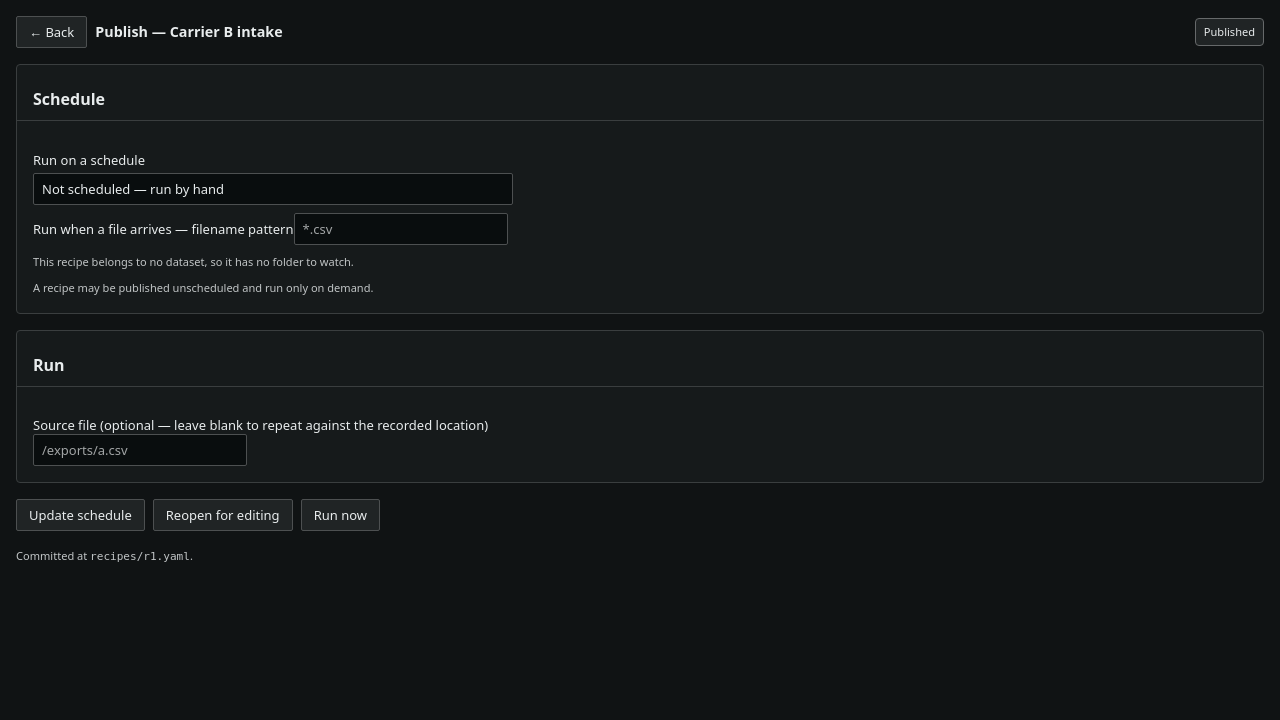
Test case: PublishScreen › withholds a withheld pipeline run's branches too
This screenshot has width=1280, height=720.
Click the button "Run now". click: point(340, 515)
box: left=301, top=499, right=380, bottom=531
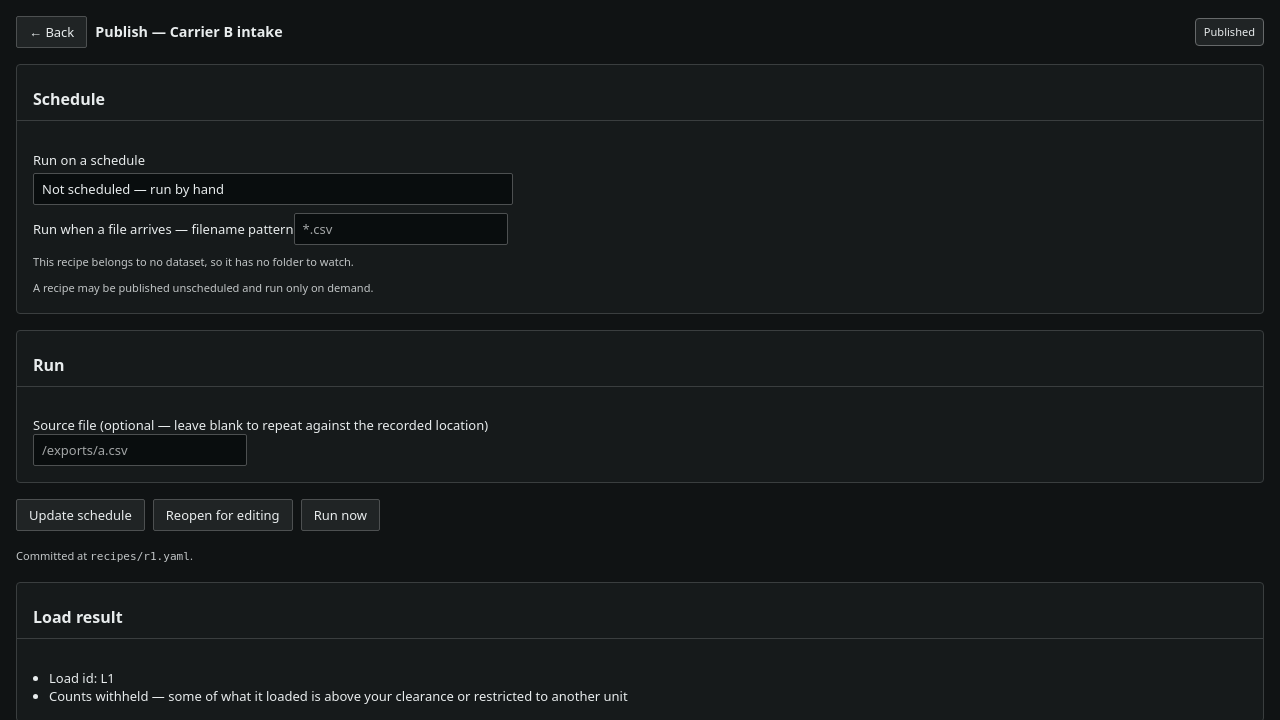
Now the list item "Counts withheld" is shown, box left=49, top=687, right=168, bottom=705
